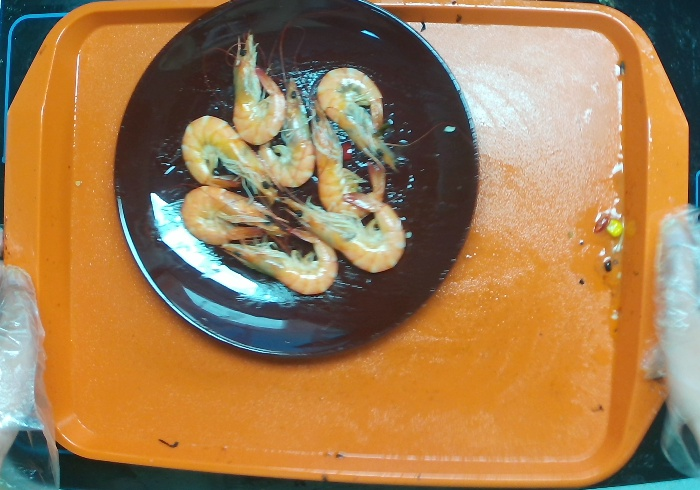HZYJPL-Ka_Fei_Yuan_Pan: (88, 1, 482, 390)
